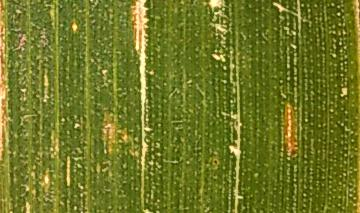tarspot: (212, 159, 218, 165)
